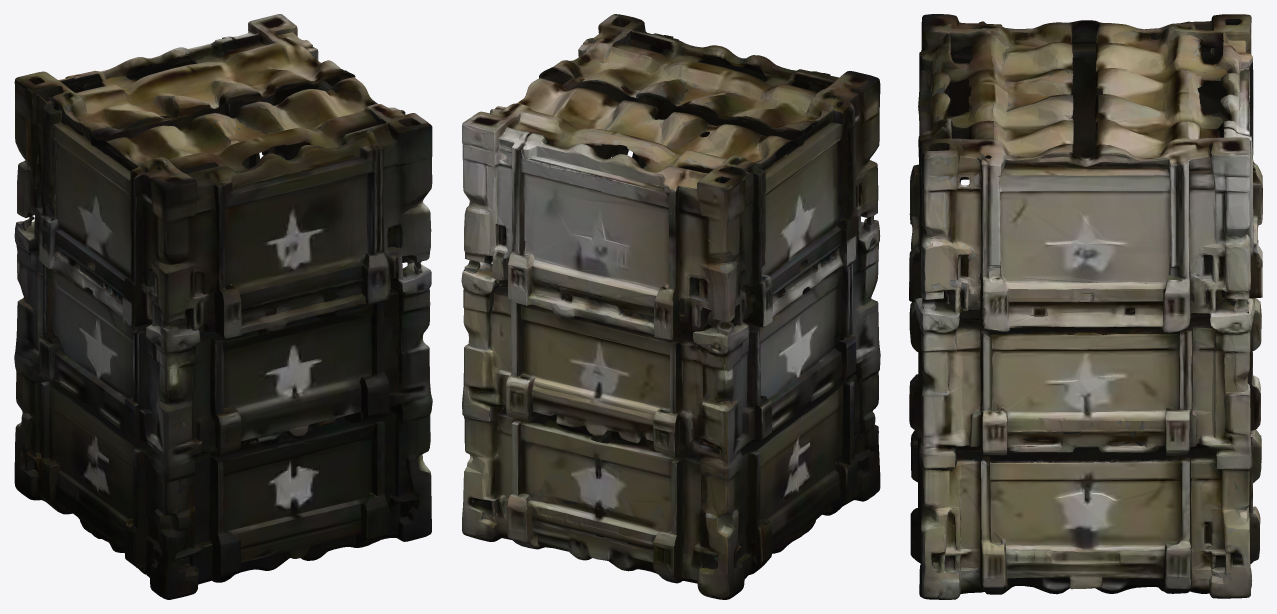
File: prop_hangar_crate.fbx
The picture shows the model from 3 angles, left to right: view 1: azimuth 30°, elevation 25°; view 2: azimuth 150°, elevation 25°; view 3: azimuth 270°, elevation 25°; orthographic projection. The views are drawn at different scales.
Visible parts, largest first — view 1: geometry_0; view 2: geometry_0; view 3: geometry_0.
Part boxes in pixels (box(x1,y1,x2,y2)): geometry_0: box(14, 14, 432, 599); geometry_0: box(461, 14, 880, 599); geometry_0: box(909, 14, 1262, 599).
Bounding box in the file's own units: 0.7024 × 0.9994 × 0.715.
